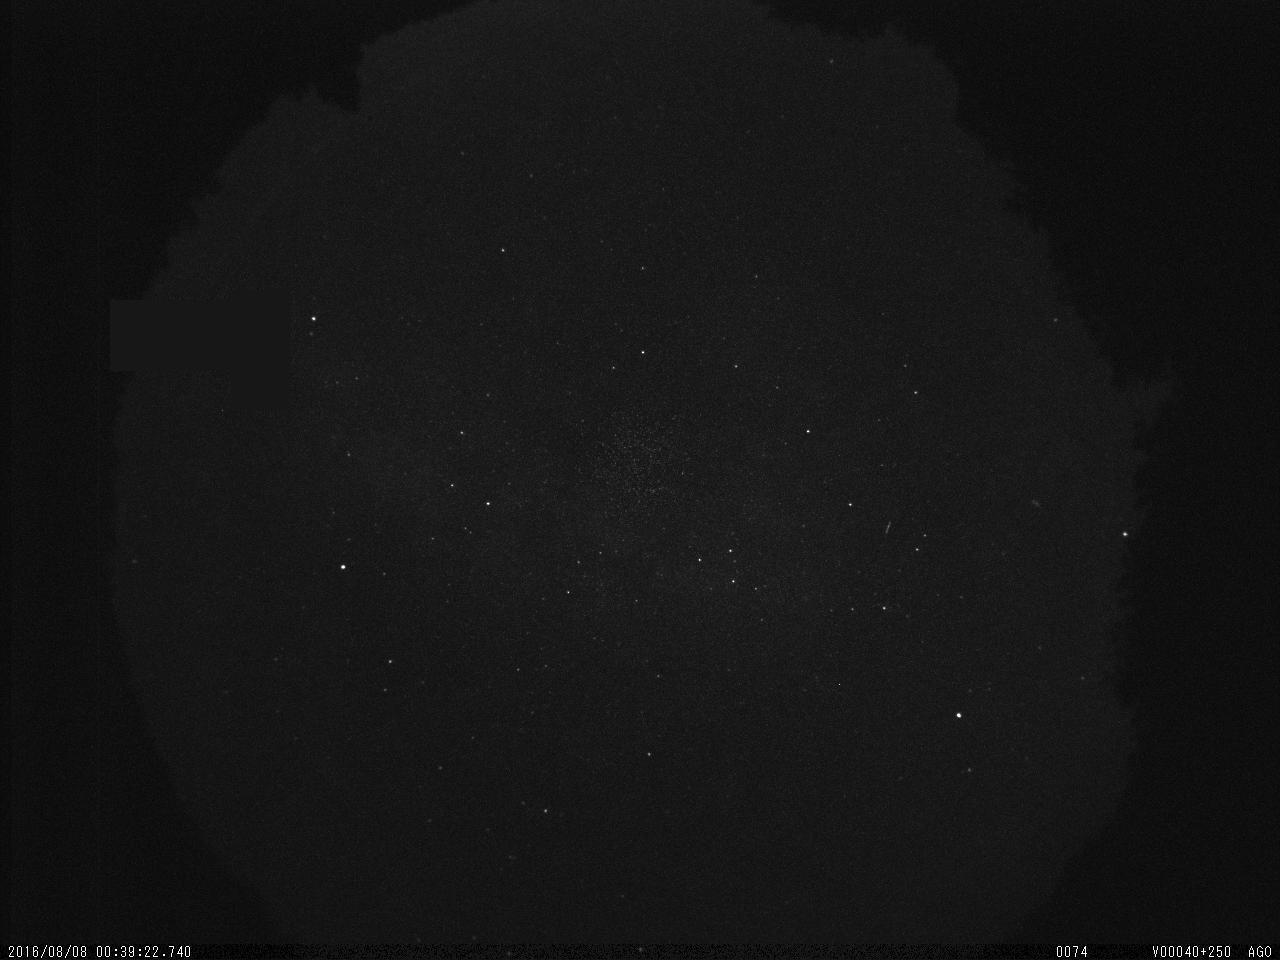meteor: (205, 291, 292, 377)
